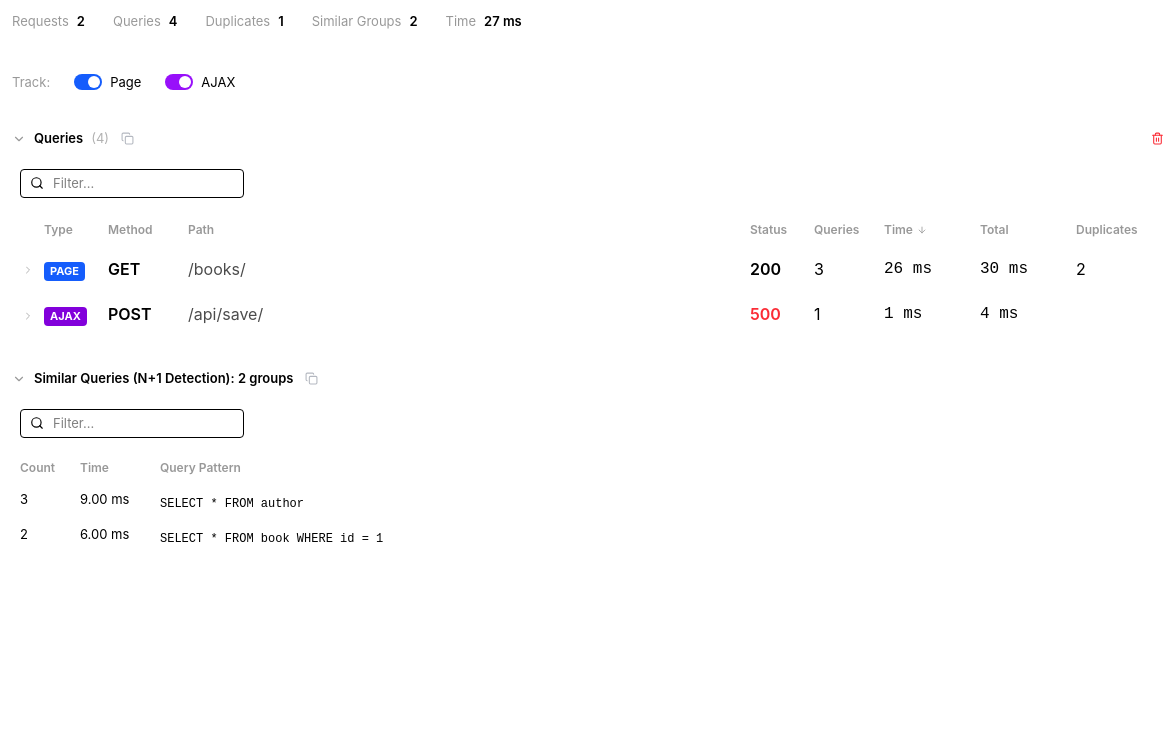
QueriesPanel statement cells › opens one occurrence of a group in detail
Click the row with class "cursor-pointer" that starts with "PAGE" at (588, 269), box [12,246,1164,292]
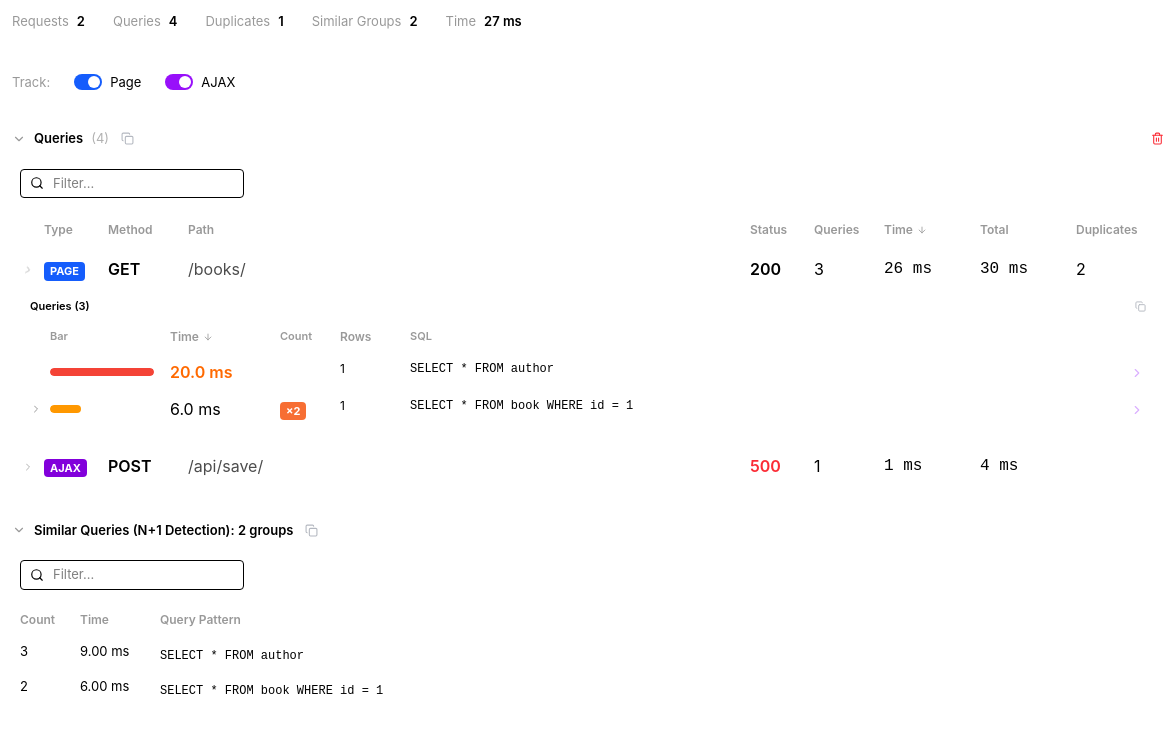
Click the text "×2" at (293, 411), box [280,402,306,420]
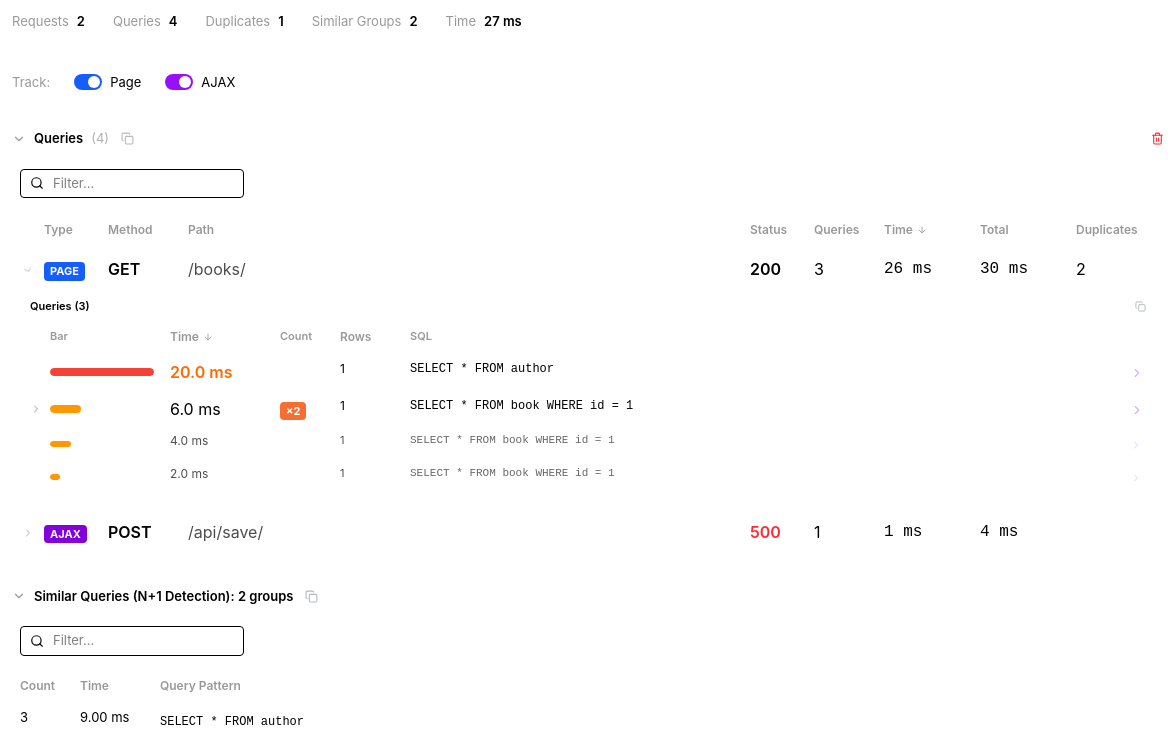
Click the row with class "cursor-pointer" that starts with "2.0 ms" at (588, 476), box [22,460,1154,492]
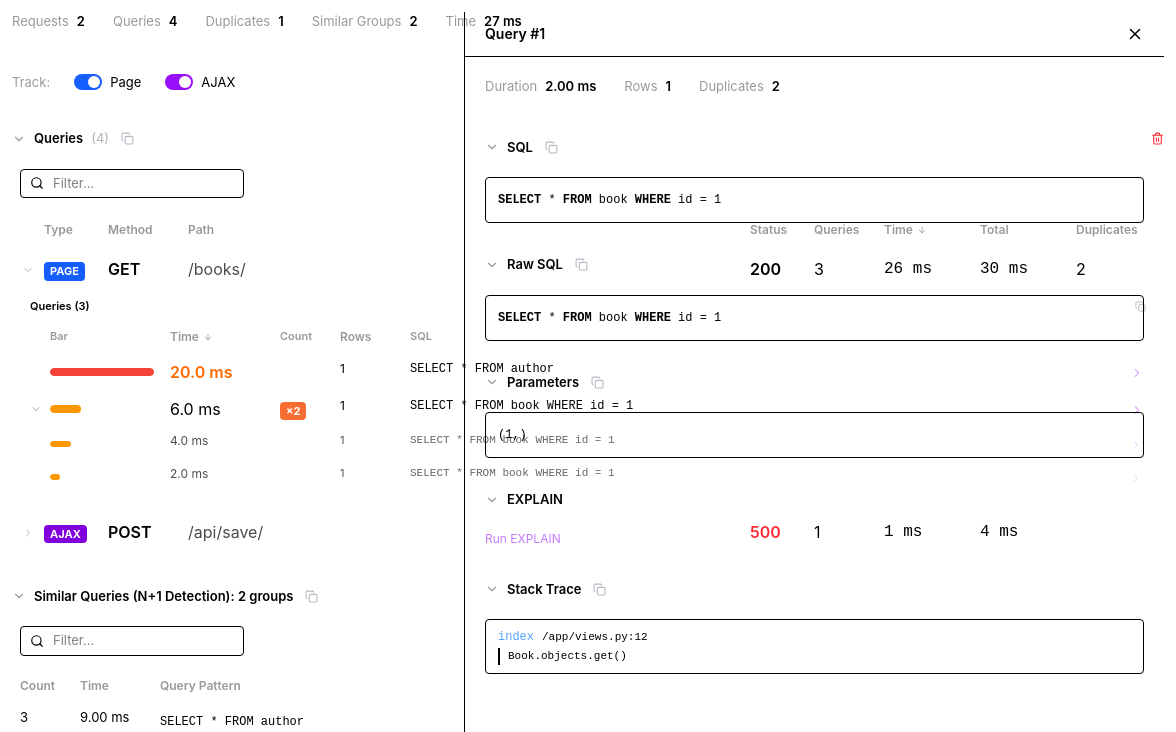
Result: the text "Query #1" is shown at [485,24,545,44]
